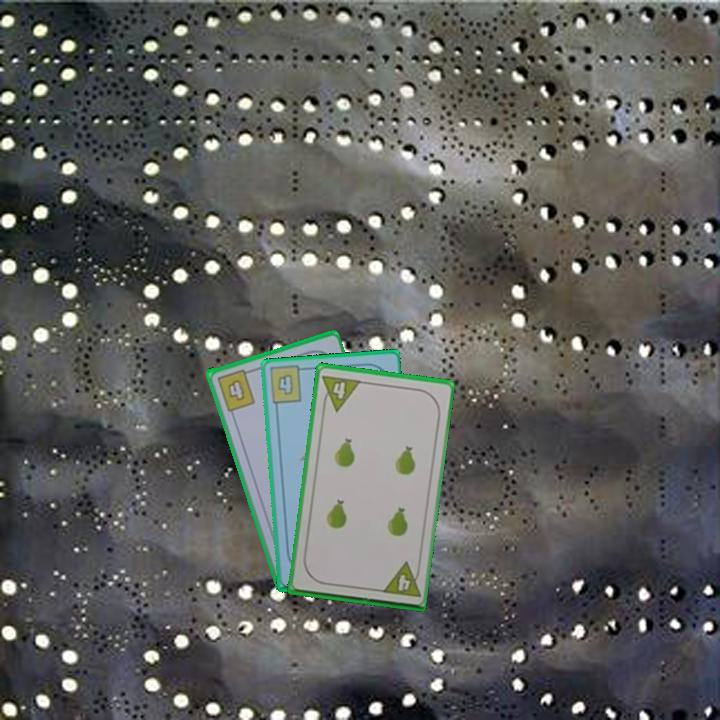4b: (213, 365, 258, 414), (265, 363, 309, 407)
4p: (318, 371, 363, 414), (378, 559, 423, 600)
